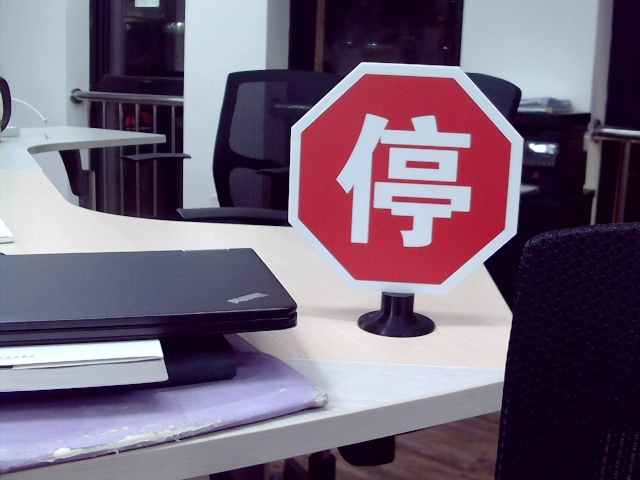stop: (337, 109, 475, 250)
